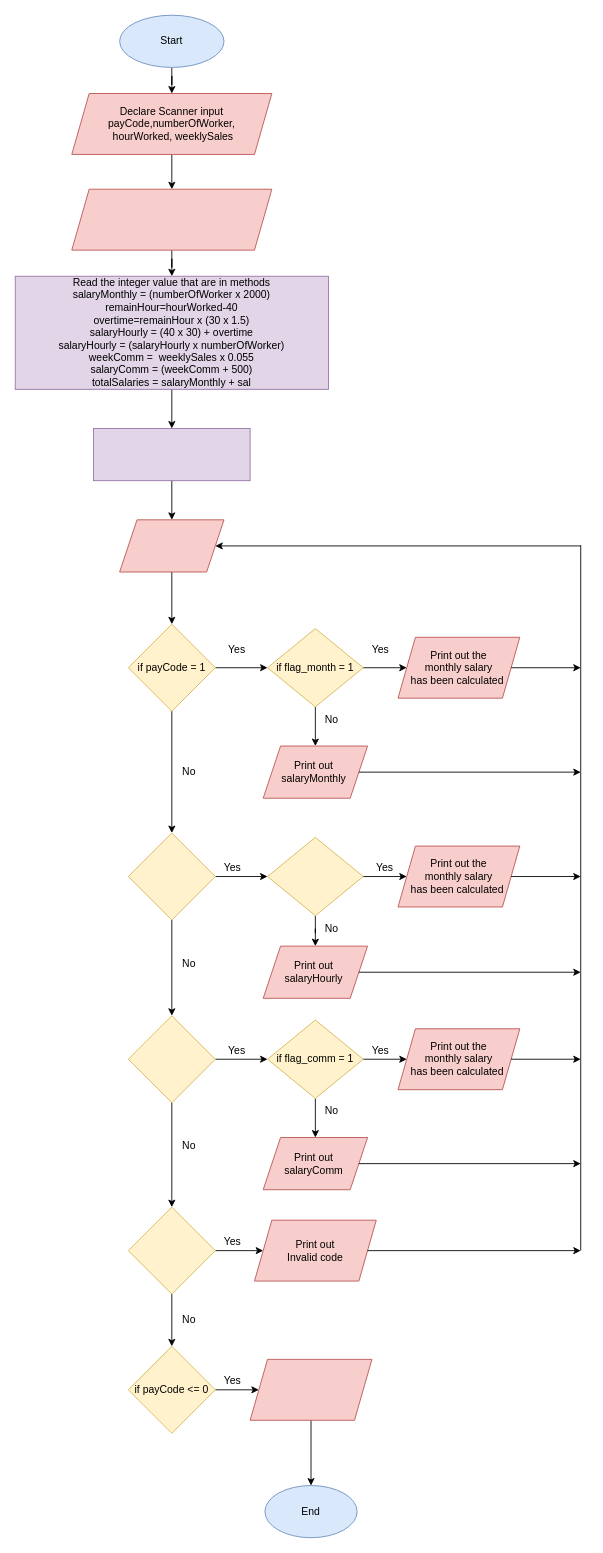
This 603x1553 diagram has some shape labels left out. The shapes that lost their labels are listed below. From the top down, each one's centre as x and y in pixels, then its label:
At (171,219): "Declare salaryMonthly, salaryHourly, salaryComm, overtime, totalSalaries".
At (171,454): "Read the integer value flag_month = 0 flag_week = 0 flag_comm = 0".
At (171,545): "user insert input for payCode".
At (171,876): "if payCode = 2".
At (315,876): "if flag_week = 1".
At (171,1059): "if payCode = 3".
At (171,1250): "if payCode >= 4".
At (310,1389): "System.exit and print out total salaries".
